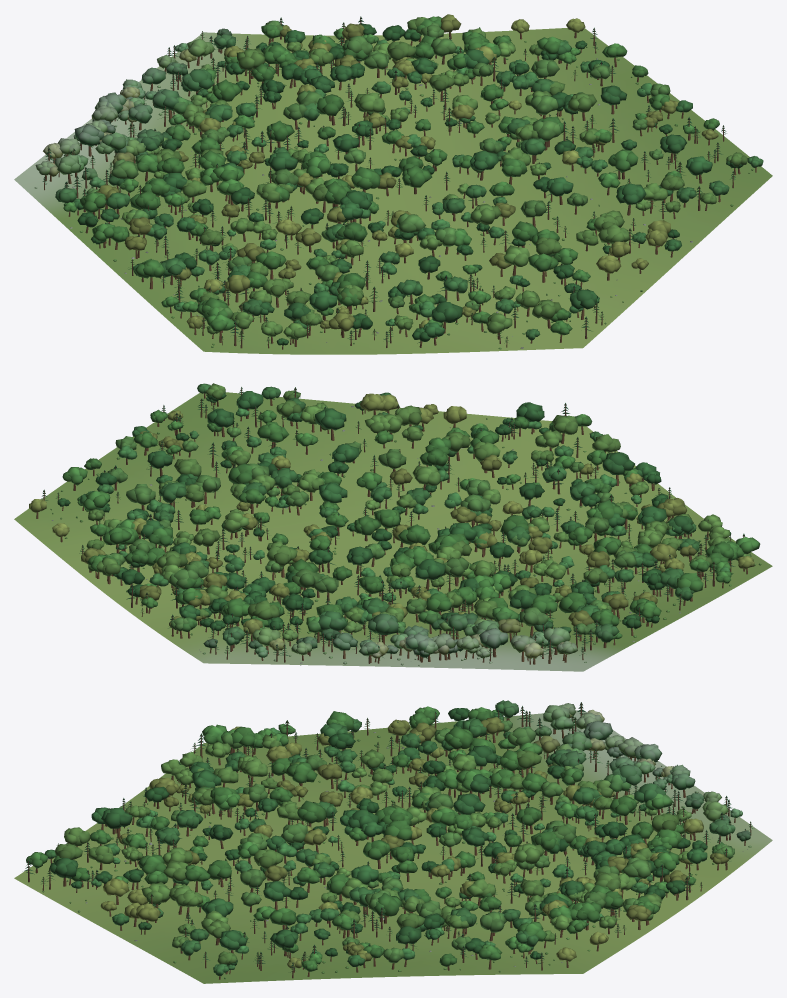
The picture shows the model from 3 angles, top to bottom: view 1: azimuth 30°, elevation 25°; view 2: azimuth 150°, elevation 25°; view 3: azimuth 270°, elevation 25°; orthographic projection.
Visible parts, largest first — view 1: broadleaf_canopy, terrain, trunks, conifer_canopy; view 2: broadleaf_canopy, terrain, trunks, conifer_canopy, shrubs; view 3: broadleaf_canopy, terrain, trunks, conifer_canopy, shrubs.
Boxes of the visible parts, x1=… form: broadleaf_canopy: x1=35, y1=14, x2=763, y2=345; terrain: x1=14, y1=28, x2=772, y2=354; trunks: x1=44, y1=17, x2=756, y2=349; conifer_canopy: x1=42, y1=16, x2=735, y2=343; broadleaf_canopy: x1=29, y1=383, x2=760, y2=658; terrain: x1=14, y1=392, x2=772, y2=671; trunks: x1=36, y1=388, x2=750, y2=664; conifer_canopy: x1=41, y1=387, x2=750, y2=658; shrubs: x1=50, y1=398, x2=761, y2=665; broadleaf_canopy: x1=26, y1=700, x2=750, y2=975; terrain: x1=14, y1=710, x2=772, y2=983; trunks: x1=28, y1=703, x2=751, y2=979; conifer_canopy: x1=24, y1=702, x2=754, y2=972; shrubs: x1=42, y1=735, x2=751, y2=978.
Size of the model in its own units: 4330 by 530 by 5000.
